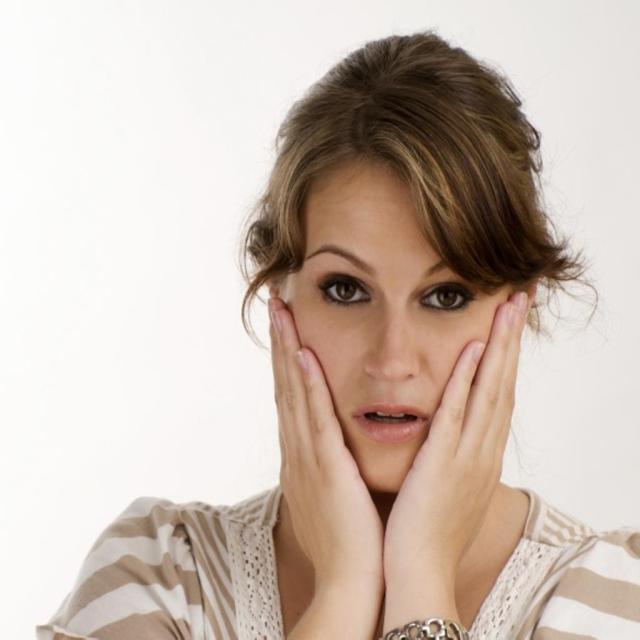Face: (265, 157, 514, 499)
